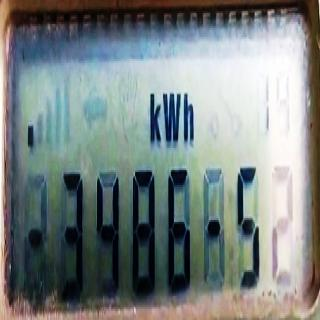-: (28, 218, 44, 250), (206, 211, 222, 242), (25, 117, 35, 154)
1: (262, 65, 272, 142)
2: (268, 159, 298, 292)
3: (58, 159, 86, 307)
4: (94, 160, 126, 306)
5: (233, 158, 264, 297)
6: (164, 158, 194, 301)
8: (128, 158, 156, 300)
